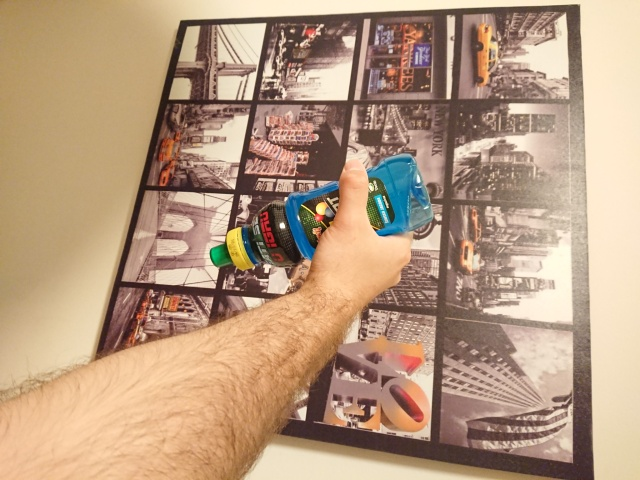Vindi Iso Sport Forest Strawberries 500mL: (207, 149, 436, 271)
